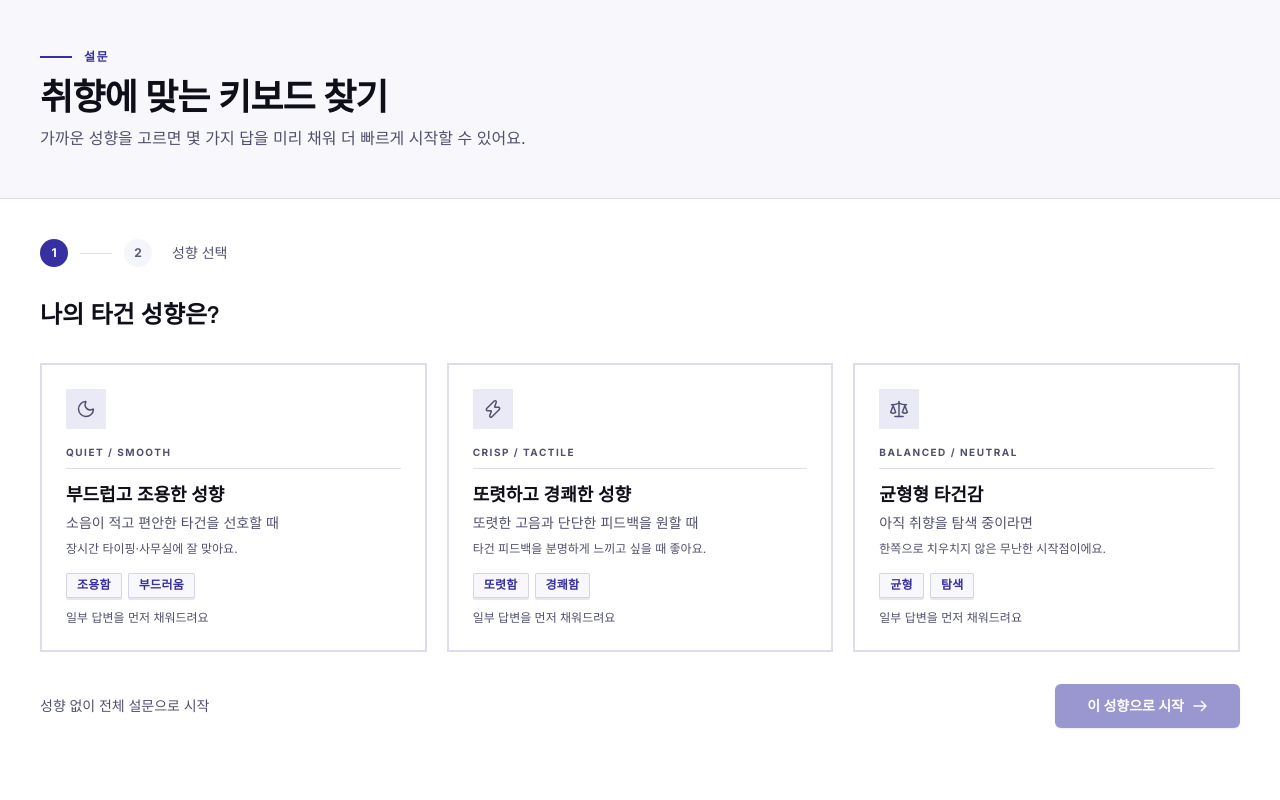
Test case: SurveyWizard preset skip (Phase 3) › shows prefilled banner on seeded steps after advancing
Click the button "부드럽고 조용한 성향". click: (86, 409)
box: [40,363,427,652]
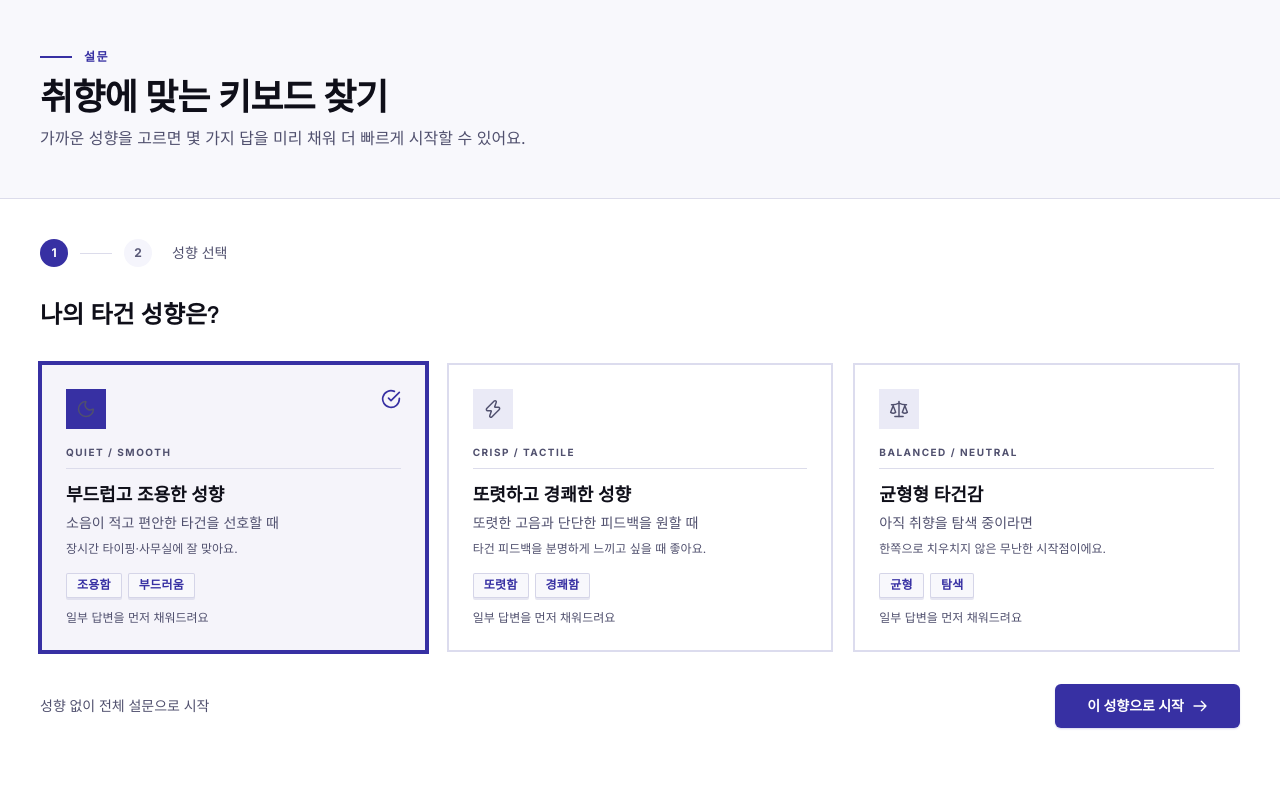
Click the button with test id "e2e-survey-start-with-style". click: (1148, 706)
box: [1055,684,1240,728]
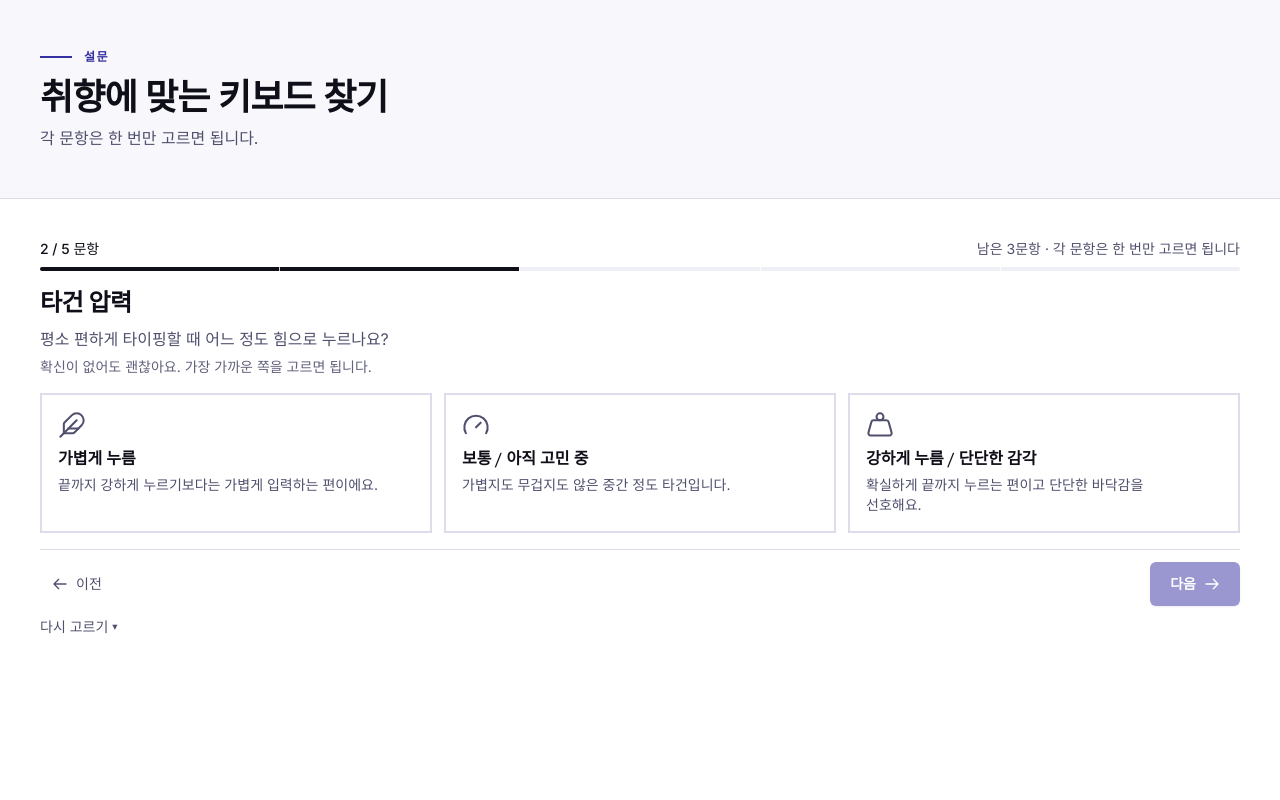
Click the radio button labelled "가볍게 누름 끝까지 강하게 누르기보다는 가볍게 입력하는 편이에요.". click: (97, 458)
box: [40,393,432,533]
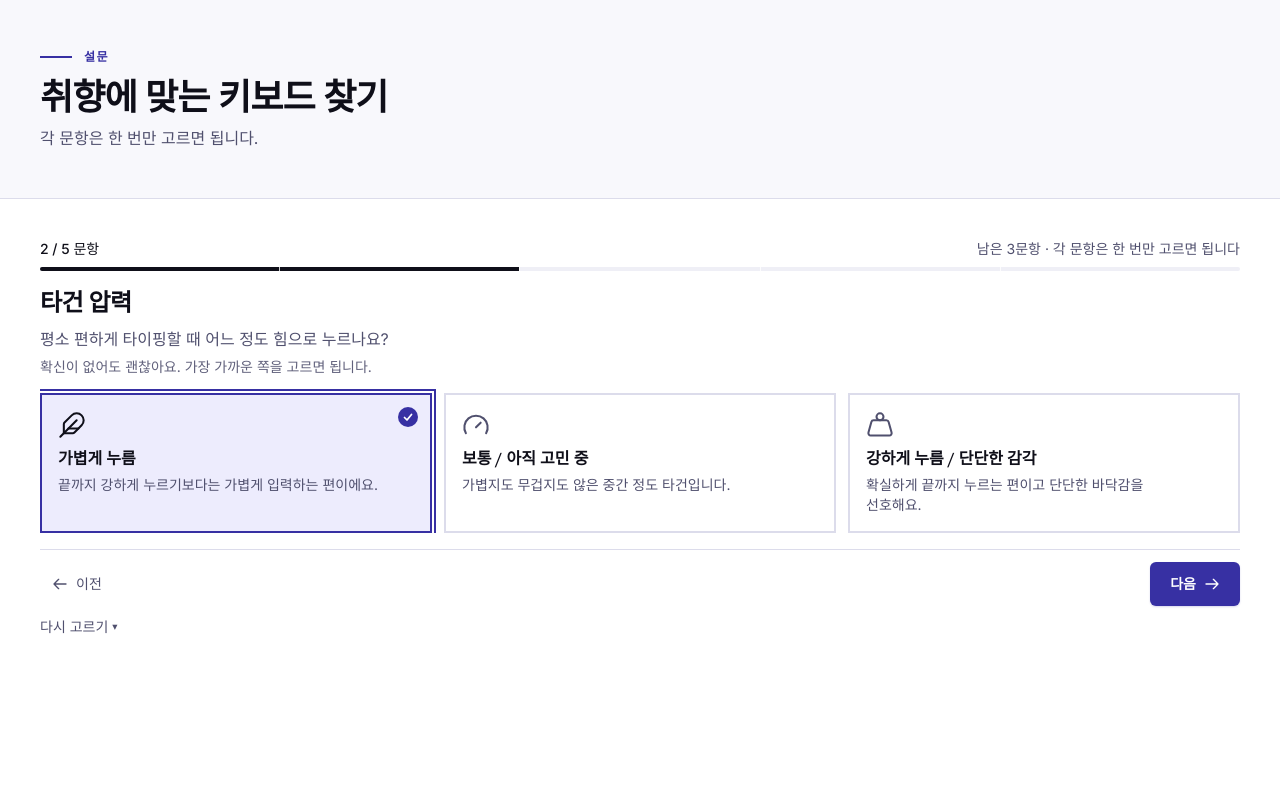
Click the button "다음". click: (1195, 584)
box: [1150,562,1240,606]
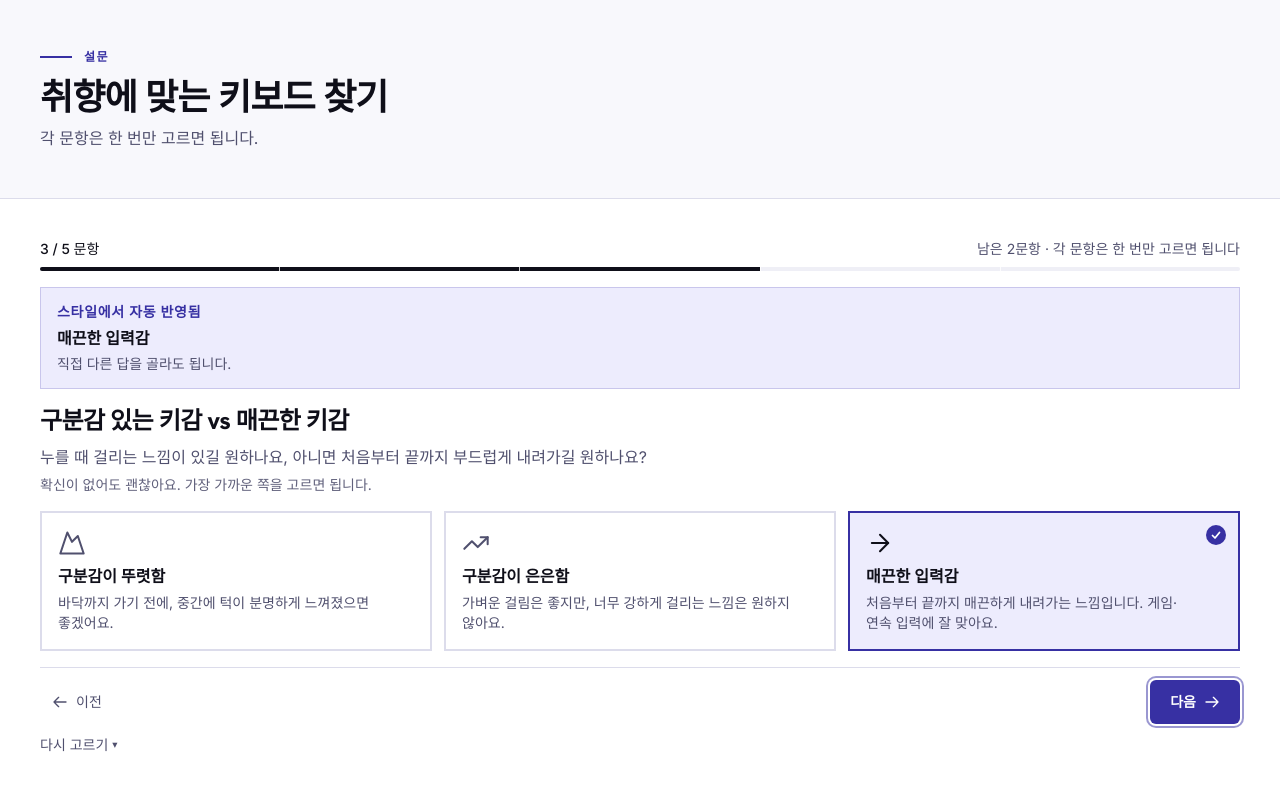
Result: the element with test id "e2e-prefilled-step-banner" is shown at [40,287,1240,389]
Result: the text "매끈한 입력감" below "스타일에서 자동 반영됨" is shown at [57,328,149,348]
